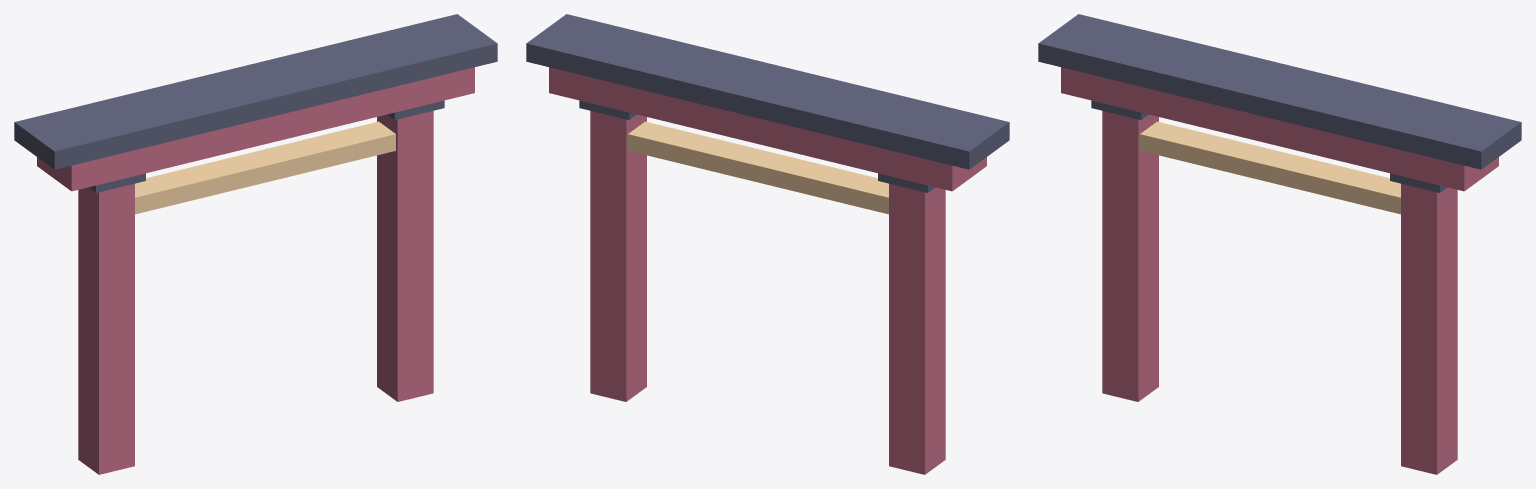
File: dojo_fox_emblem_gate_lod1.gltf
3 views of the same model, side by side, from view 1: azimuth 30°, elevation 25°; view 2: azimuth 150°, elevation 25°; view 3: azimuth 330°, elevation 25° (orthographic).
Parts seen in each view (by area): view 1: dojo_fox_emblem_gate_lod1; view 2: dojo_fox_emblem_gate_lod1; view 3: dojo_fox_emblem_gate_lod1.
Part boxes in pixels (x1=…): dojo_fox_emblem_gate_lod1: x1=14, y1=14, x2=497, y2=474; dojo_fox_emblem_gate_lod1: x1=526, y1=14, x2=1009, y2=474; dojo_fox_emblem_gate_lod1: x1=1038, y1=14, x2=1521, y2=474.
Bounding box in the file's own units: 8.9 × 6.6 × 1.4.
